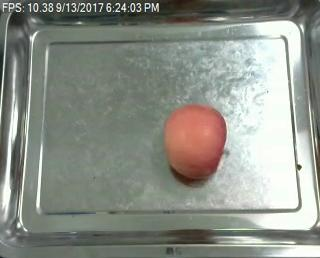apple: (164, 105, 232, 181)
